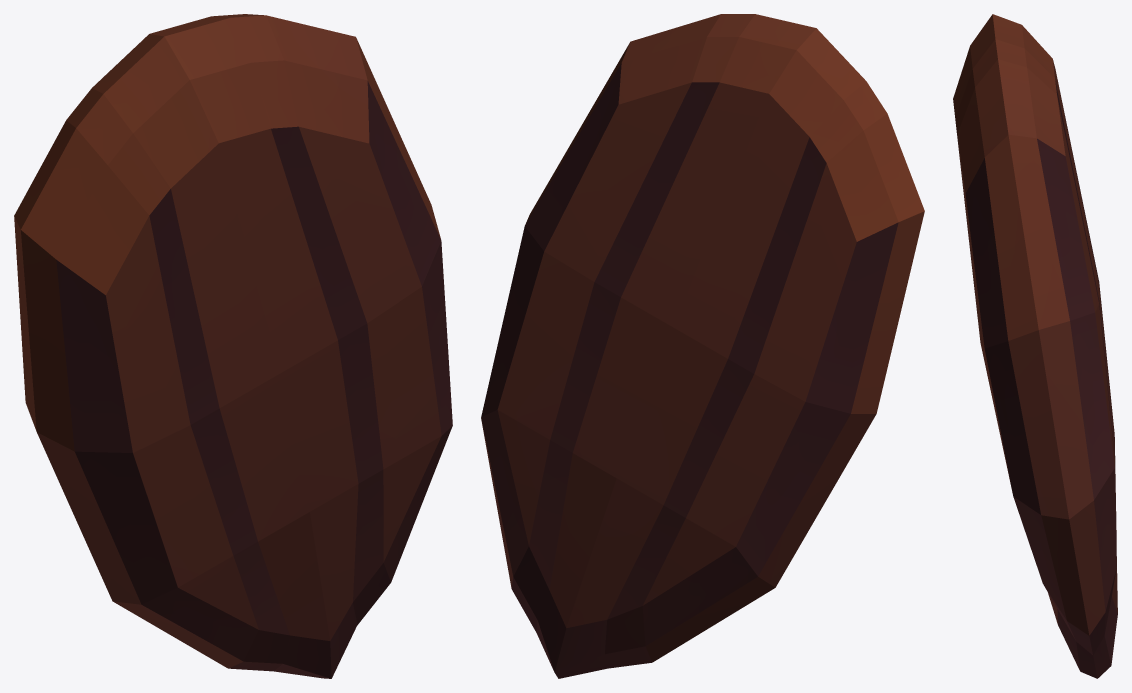
The model's file is Item_SeedOrdinary.fbx.
3 views of the same model, side by side, from view 1: azimuth 30°, elevation 25°; view 2: azimuth 150°, elevation 25°; view 3: azimuth 270°, elevation 25° (orthographic). The views are drawn at different scales.
Parts seen in each view (by area): view 1: Cube.003; view 2: Cube.003; view 3: Cube.003.
Part boxes in pixels (x1,y1,x2,y2): Cube.003: (14,14,452,678); Cube.003: (481,14,924,678); Cube.003: (953,14,1117,678).
Bounding box in the file's own units: 9.69 × 14.84 × 3.82.
